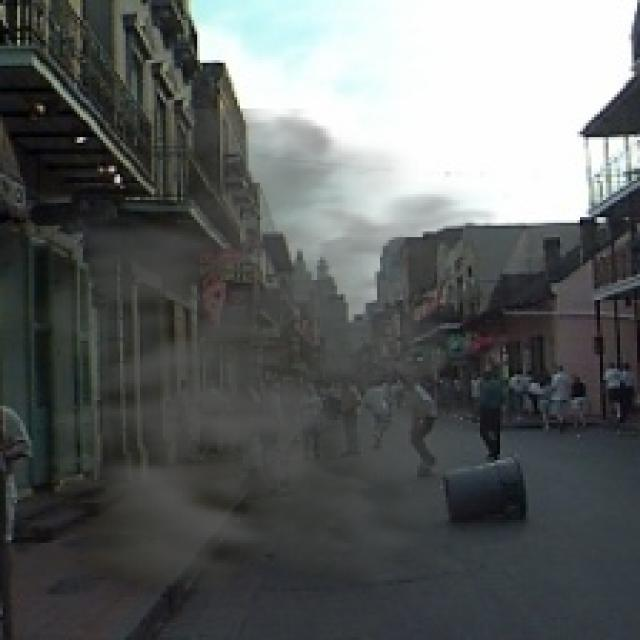Smoke: (0, 109, 549, 628)
